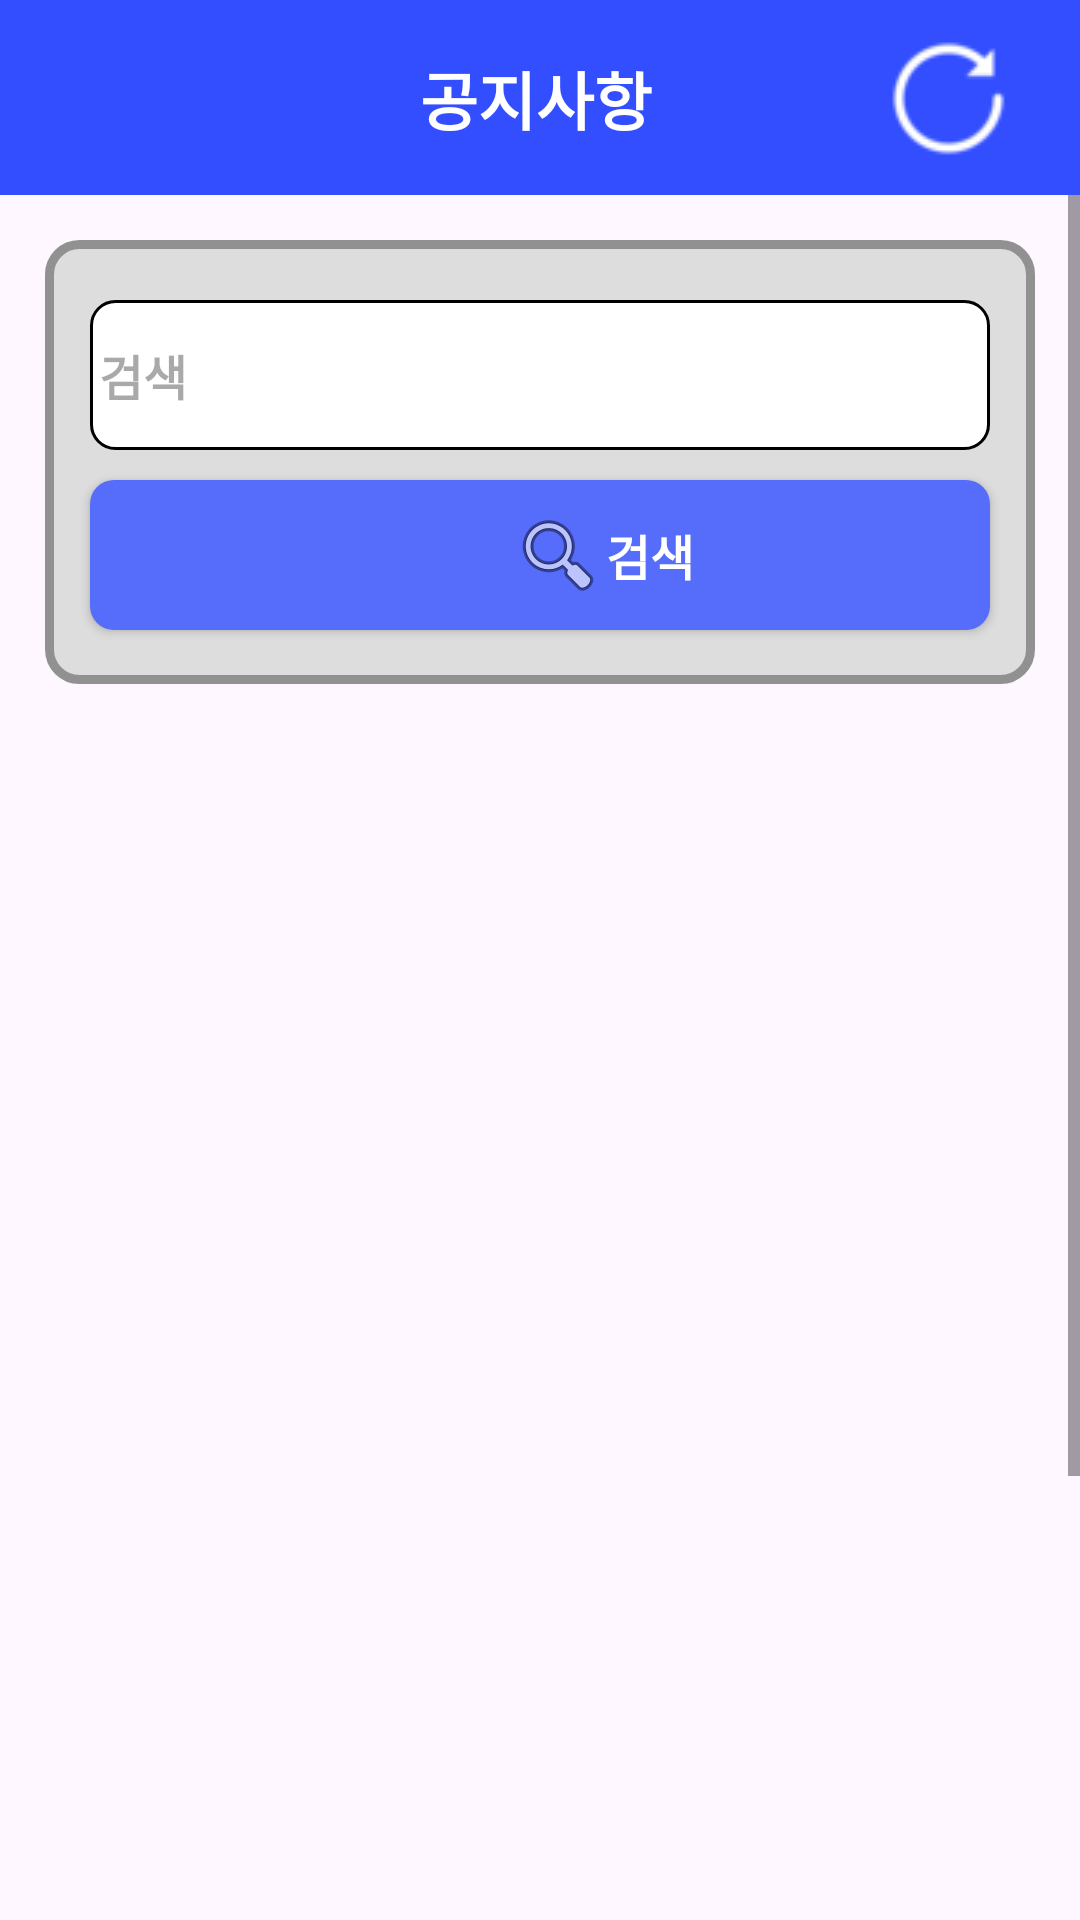

Named icons in this screenshot (1080 x 1920) and their bounding boxes, (x1, y1, x2, y2):
reboot: (892, 42, 1005, 155)
